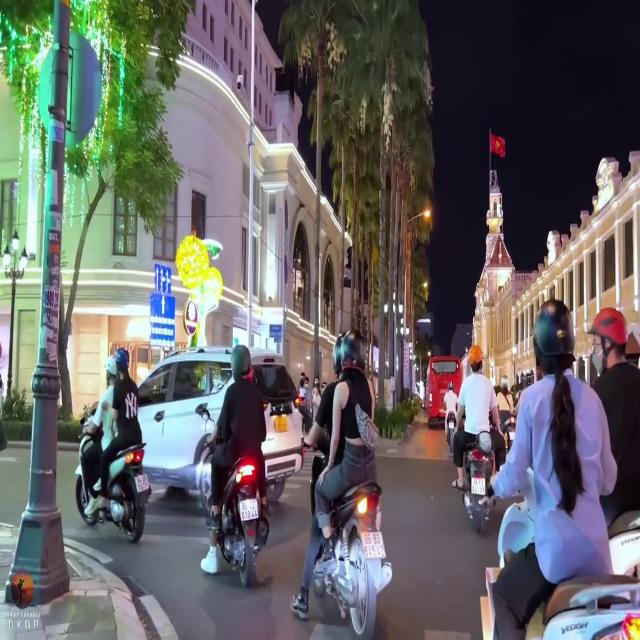bien_trang: (359, 523, 387, 564), (235, 497, 268, 525)
